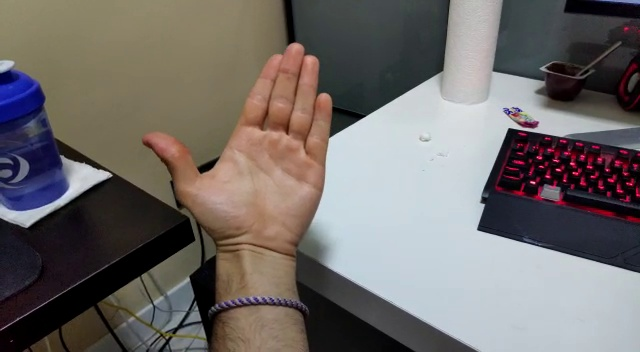Palm: (142, 41, 337, 259)
